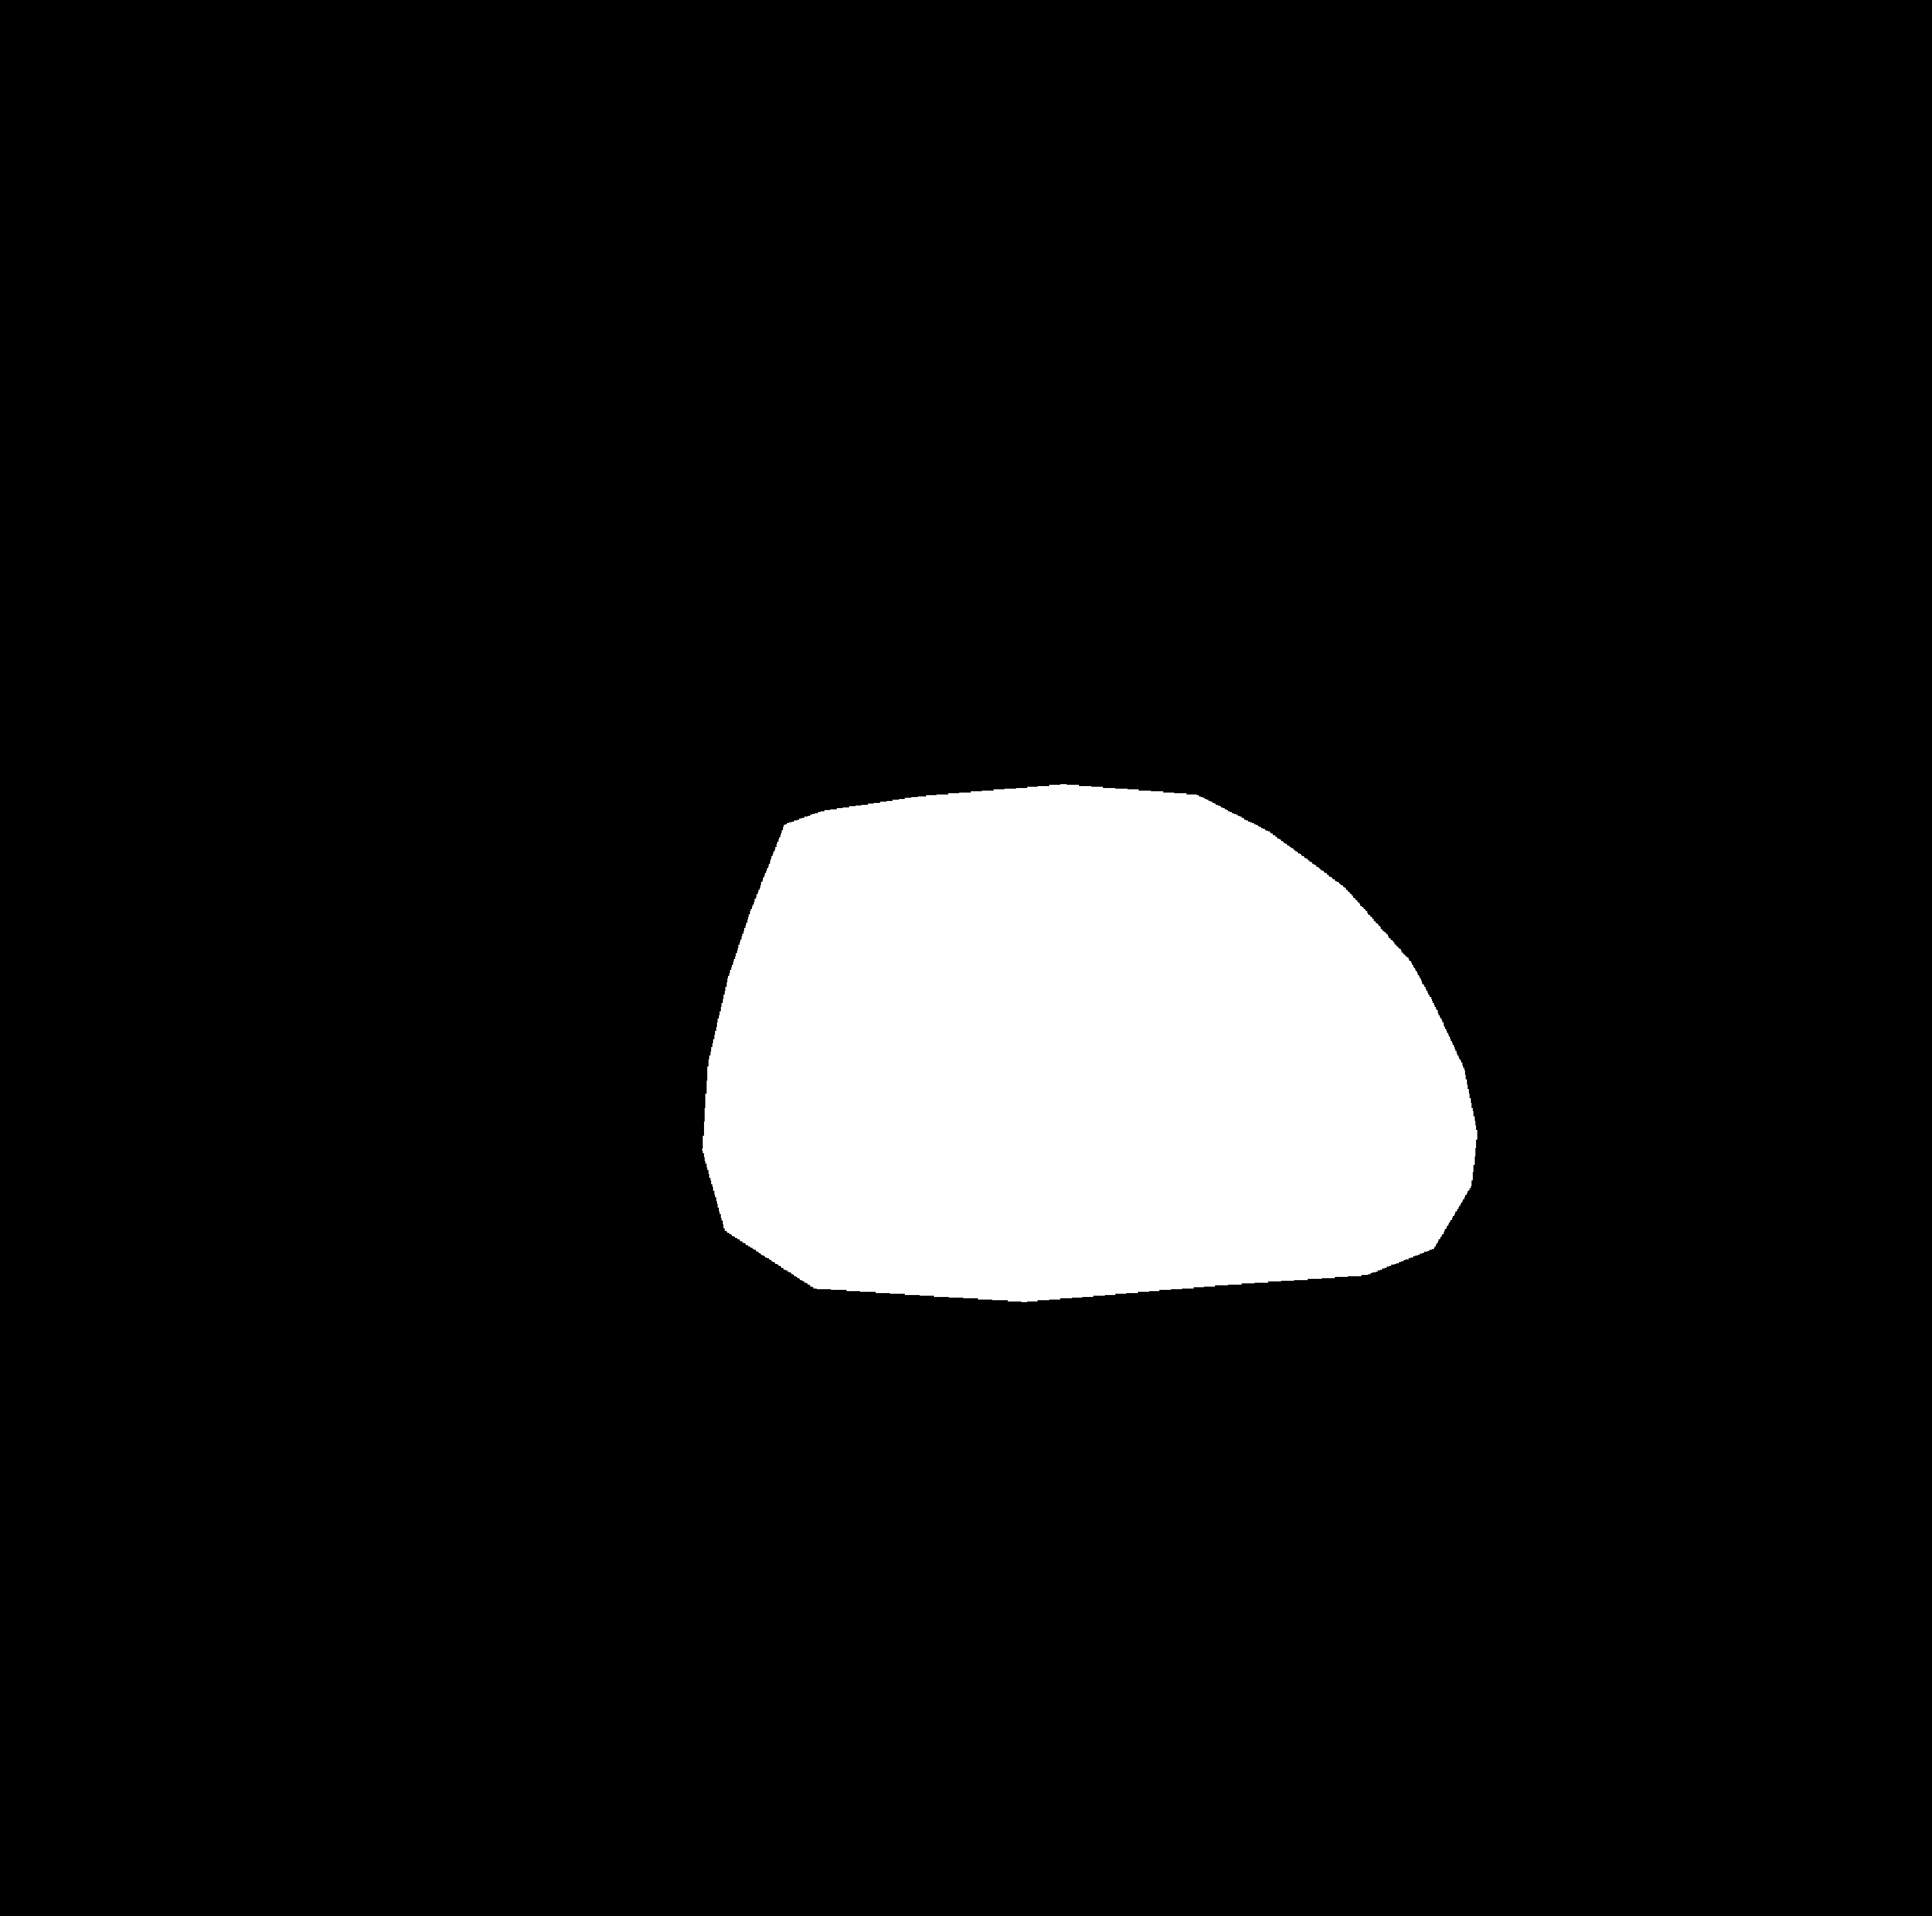heart: (704, 793, 1469, 1346)
left_lung: (342, 161, 860, 1319)
right_lung: (1021, 82, 1569, 1319)
